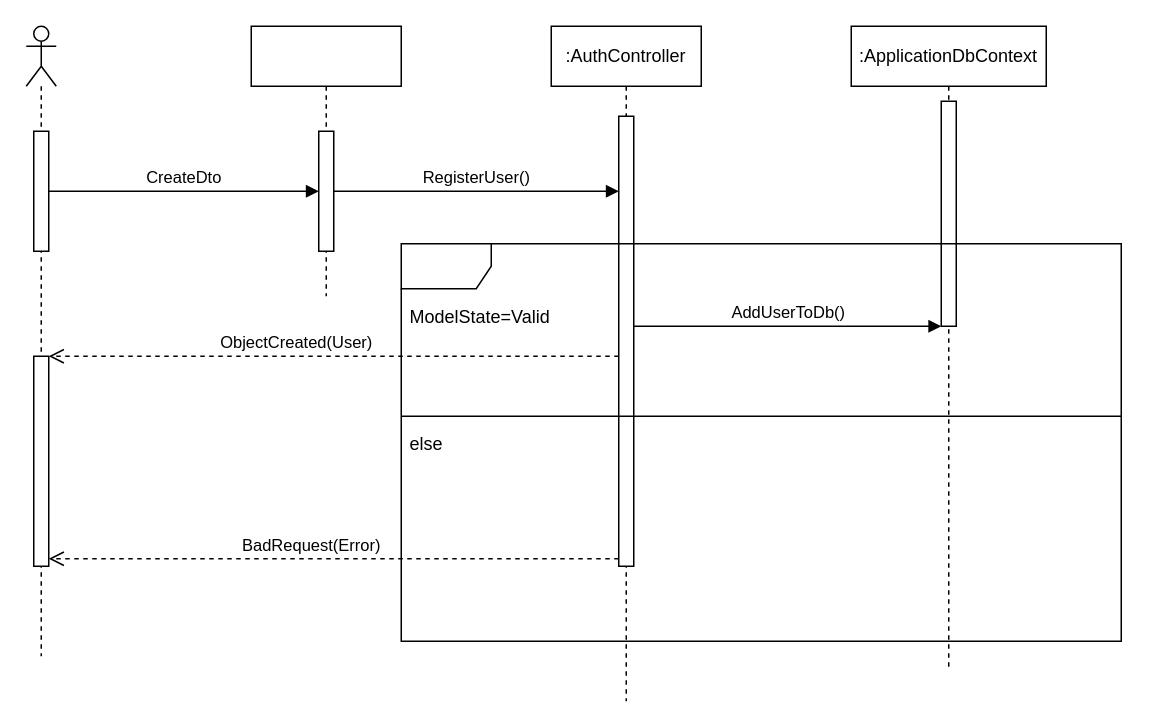
This 1149x728 diagram has some shape labels left out. Each missing label, with the box of its shape:
:RegisterDto: (250, 25, 401, 296)
CreateUser: (400, 242, 1121, 641)
